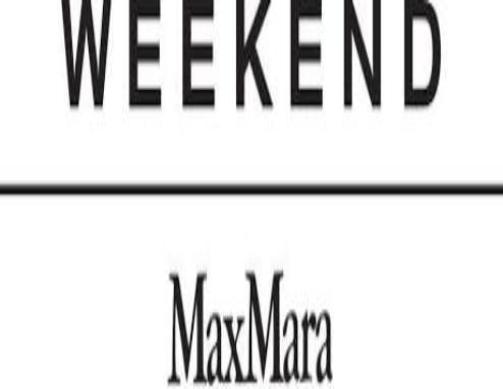MAX-MARA: (166, 266, 334, 384)
